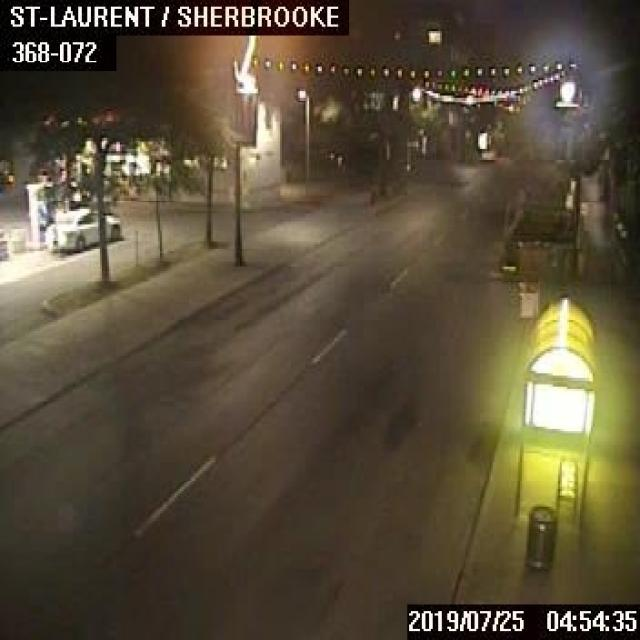vehicle: (43, 207, 119, 250)
